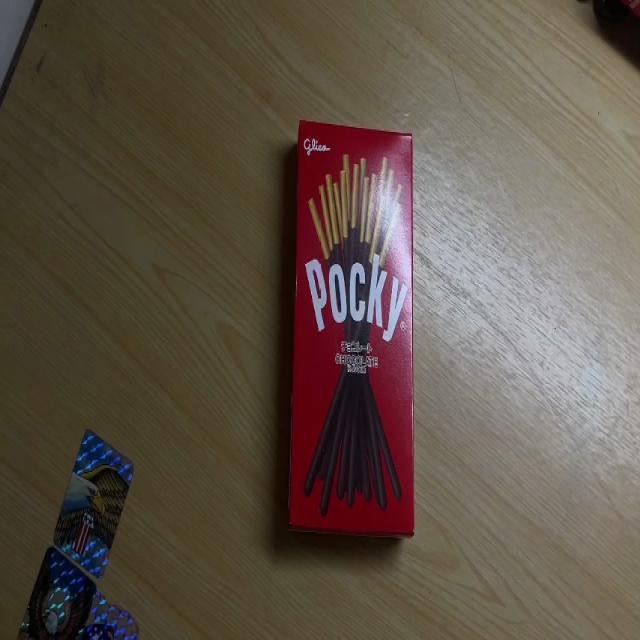Pocky: (287, 122, 416, 533)
